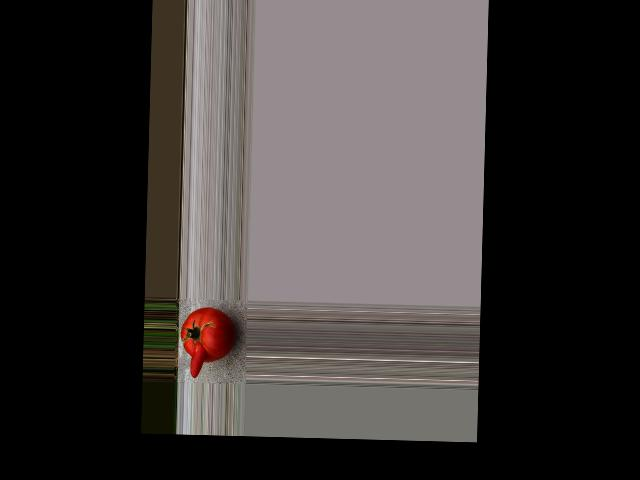tomato: (180, 305, 234, 363)
